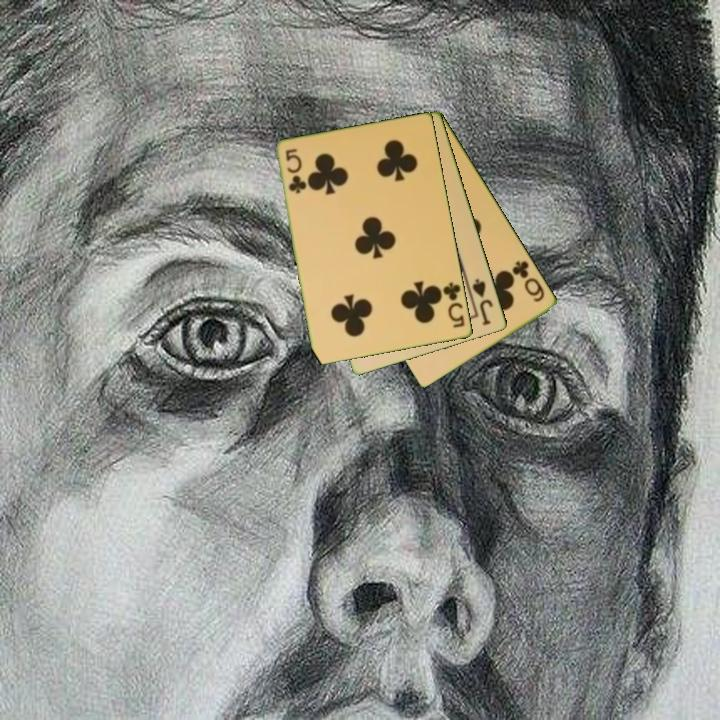5c: (438, 279, 468, 331), (282, 145, 308, 197)
6c: (509, 257, 548, 305)
Js: (469, 275, 496, 329)
